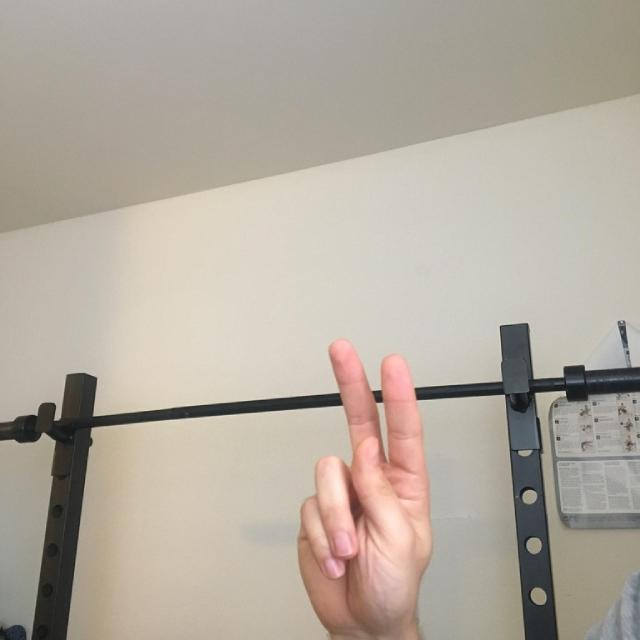K: (272, 304, 471, 616)
